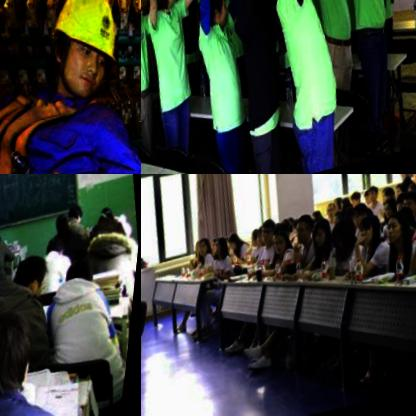head: (0, 305, 42, 402), (11, 251, 55, 307), (68, 258, 100, 296), (385, 215, 415, 255), (204, 0, 236, 34), (334, 223, 363, 258), (356, 218, 385, 252), (46, 233, 74, 266), (95, 205, 122, 239), (294, 214, 321, 248), (312, 222, 336, 256), (55, 212, 78, 241), (352, 204, 375, 233), (274, 231, 294, 259), (67, 205, 88, 230), (262, 220, 280, 247), (333, 212, 352, 234), (229, 232, 246, 256), (403, 193, 416, 223), (384, 202, 402, 223), (149, 0, 183, 11), (215, 238, 231, 261), (257, 228, 271, 250), (199, 238, 214, 257), (352, 192, 367, 211), (384, 188, 399, 207), (211, 238, 224, 257), (252, 230, 265, 248), (365, 192, 377, 211), (327, 206, 340, 221), (370, 190, 381, 207), (335, 199, 346, 215), (0, 231, 7, 251), (396, 188, 406, 202)
helmet: (29, 0, 141, 119)
